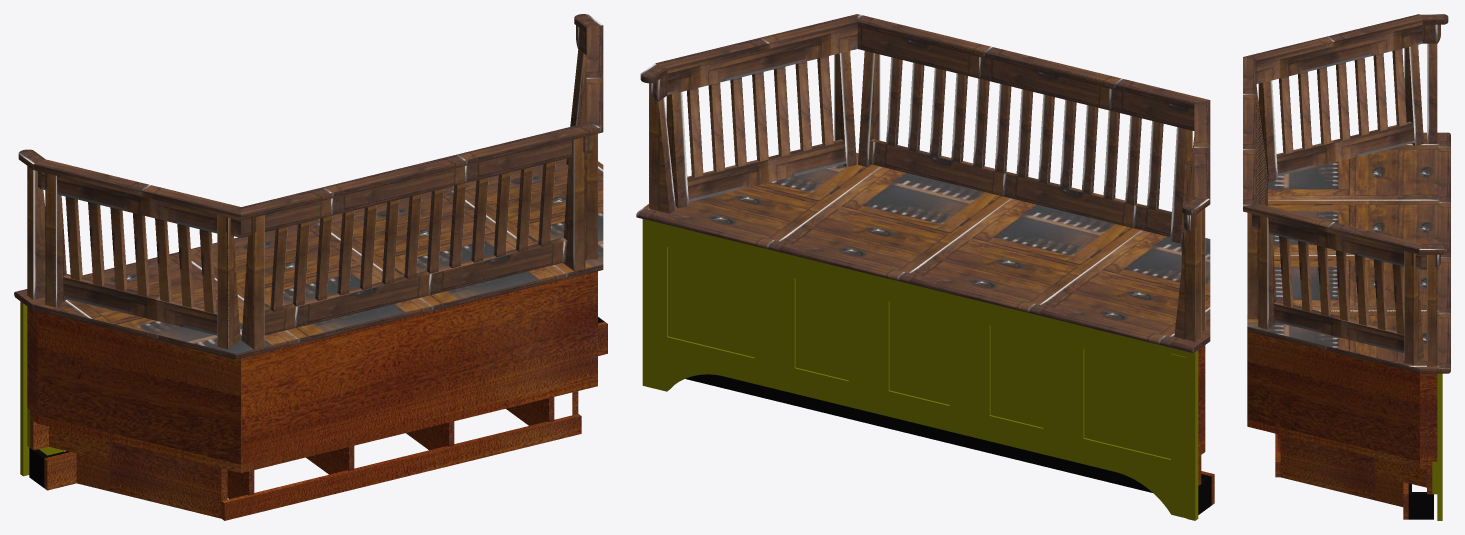
The picture shows the model from 3 angles, left to right: view 1: azimuth 30°, elevation 25°; view 2: azimuth 150°, elevation 25°; view 3: azimuth 270°, elevation 25°; orthographic projection. The views are drawn at different scales.
Visible parts, largest first — view 1: mesh28_mesh28-geometry, mesh88_mesh88-geometry, mesh26_mesh26-geometry, mesh80_mesh80-geometry, mesh74_mesh74-geometry, mesh11_mesh11-geometry, mesh1_mesh1-geometry, mesh78_mesh78-geometry, mesh86_mesh86-geometry, mesh76_mesh76-geometry, mesh91_mesh91-geometry, mesh72_mesh72-geometry (+11 smaller); view 2: mesh88_mesh88-geometry, mesh52_mesh52-geometry, mesh60_mesh60-geometry, mesh80_mesh80-geometry, mesh62_mesh62-geometry, mesh84_mesh84-geometry, mesh78_mesh78-geometry, mesh91_mesh91-geometry, mesh66_mesh66-geometry, mesh74_mesh74-geometry, mesh72_mesh72-geometry, mesh32_mesh32-geometry (+15 smaller); view 3: mesh88_mesh88-geometry, mesh24_mesh24-geometry, mesh86_mesh86-geometry, mesh9_mesh9-geometry, mesh72_mesh72-geometry, mesh84_mesh84-geometry, mesh82_mesh82-geometry, mesh74_mesh74-geometry, mesh97_mesh97-geometry, mesh76_mesh76-geometry, mesh32_mesh32-geometry, mesh103_mesh103-geometry (+11 smaller).
Part boxes in pixels (x1=…): mesh28_mesh28-geometry: x1=241, y1=274, x2=597, y2=464; mesh88_mesh88-geometry: x1=21, y1=161, x2=603, y2=359; mesh26_mesh26-geometry: x1=37, y1=311, x2=240, y2=464; mesh80_mesh80-geometry: x1=270, y1=161, x2=555, y2=311; mesh74_mesh74-geometry: x1=27, y1=133, x2=597, y2=349; mesh11_mesh11-geometry: x1=49, y1=426, x2=227, y2=518; mesh1_mesh1-geometry: x1=221, y1=414, x2=581, y2=520; mesh78_mesh78-geometry: x1=264, y1=237, x2=567, y2=335; mesh86_mesh86-geometry: x1=65, y1=196, x2=216, y2=313; mesh76_mesh76-geometry: x1=56, y1=176, x2=217, y2=335; mesh91_mesh91-geometry: x1=241, y1=135, x2=592, y2=237; mesh72_mesh72-geometry: x1=217, y1=49, x2=586, y2=349; mesh88_mesh88-geometry: x1=643, y1=152, x2=1210, y2=348; mesh52_mesh52-geometry: x1=651, y1=227, x2=1186, y2=480; mesh60_mesh60-geometry: x1=668, y1=247, x2=1170, y2=458; mesh80_mesh80-geometry: x1=886, y1=57, x2=1163, y2=210; mesh62_mesh62-geometry: x1=795, y1=278, x2=1043, y2=427; mesh84_mesh84-geometry: x1=687, y1=56, x2=833, y2=177; mesh78_mesh78-geometry: x1=868, y1=139, x2=1171, y2=236; mesh91_mesh91-geometry: x1=857, y1=27, x2=1194, y2=130; mesh66_mesh66-geometry: x1=651, y1=349, x2=1186, y2=518; mesh74_mesh74-geometry: x1=834, y1=51, x2=1205, y2=341; mesh72_mesh72-geometry: x1=649, y1=51, x2=1194, y2=248; mesh32_mesh32-geometry: x1=636, y1=208, x2=1199, y2=353; mesh88_mesh88-geometry: x1=1247, y1=132, x2=1439, y2=373; mesh24_mesh24-geometry: x1=1247, y1=331, x2=1419, y2=461; mesh86_mesh86-geometry: x1=1279, y1=49, x2=1406, y2=153; mesh9_mesh9-geometry: x1=1280, y1=435, x2=1426, y2=506; mesh72_mesh72-geometry: x1=1247, y1=80, x2=1437, y2=366; mesh84_mesh84-geometry: x1=1279, y1=236, x2=1404, y2=334; mesh82_mesh82-geometry: x1=1268, y1=217, x2=1404, y2=352; mesh74_mesh74-geometry: x1=1256, y1=43, x2=1437, y2=329; mesh97_mesh97-geometry: x1=1256, y1=25, x2=1422, y2=83; mesh76_mesh76-geometry: x1=1276, y1=121, x2=1414, y2=175; mesh32_mesh32-geometry: x1=1439, y1=132, x2=1450, y2=373; mesh103_mesh103-geometry: x1=1243, y1=203, x2=1422, y2=254.
Bounding box in the file's own units: 0.8375 × 0.4491 × 0.3113.
